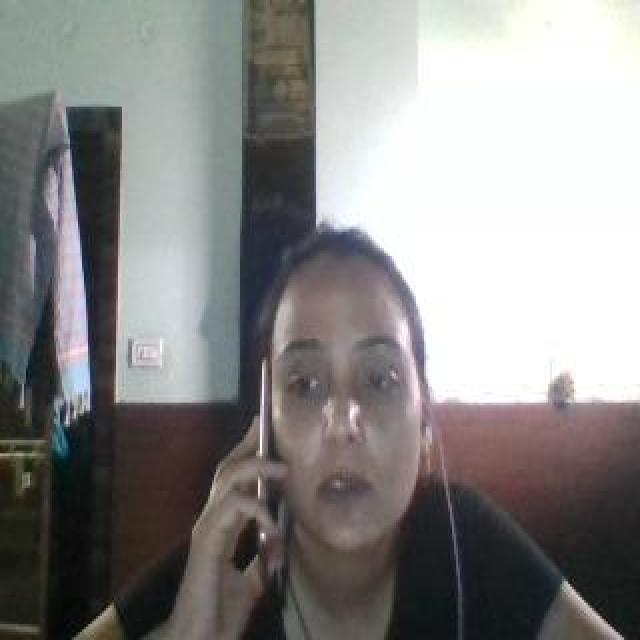phone: (256, 354, 276, 561)
